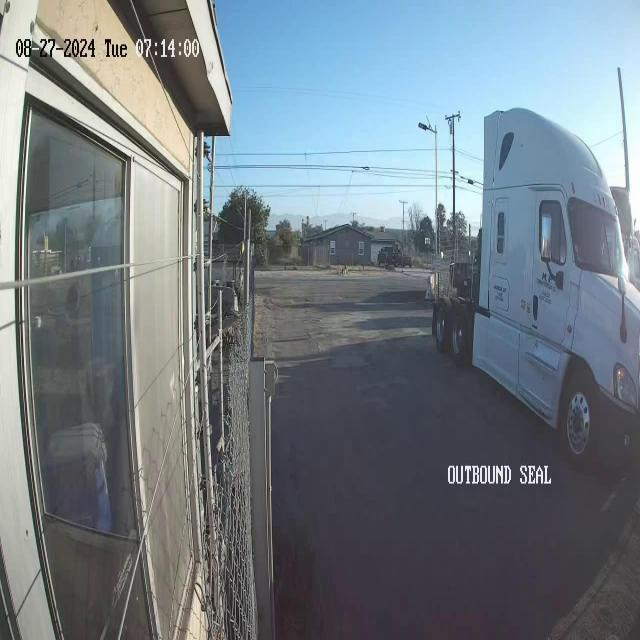TRUCK_IN: (431, 105, 639, 469)
